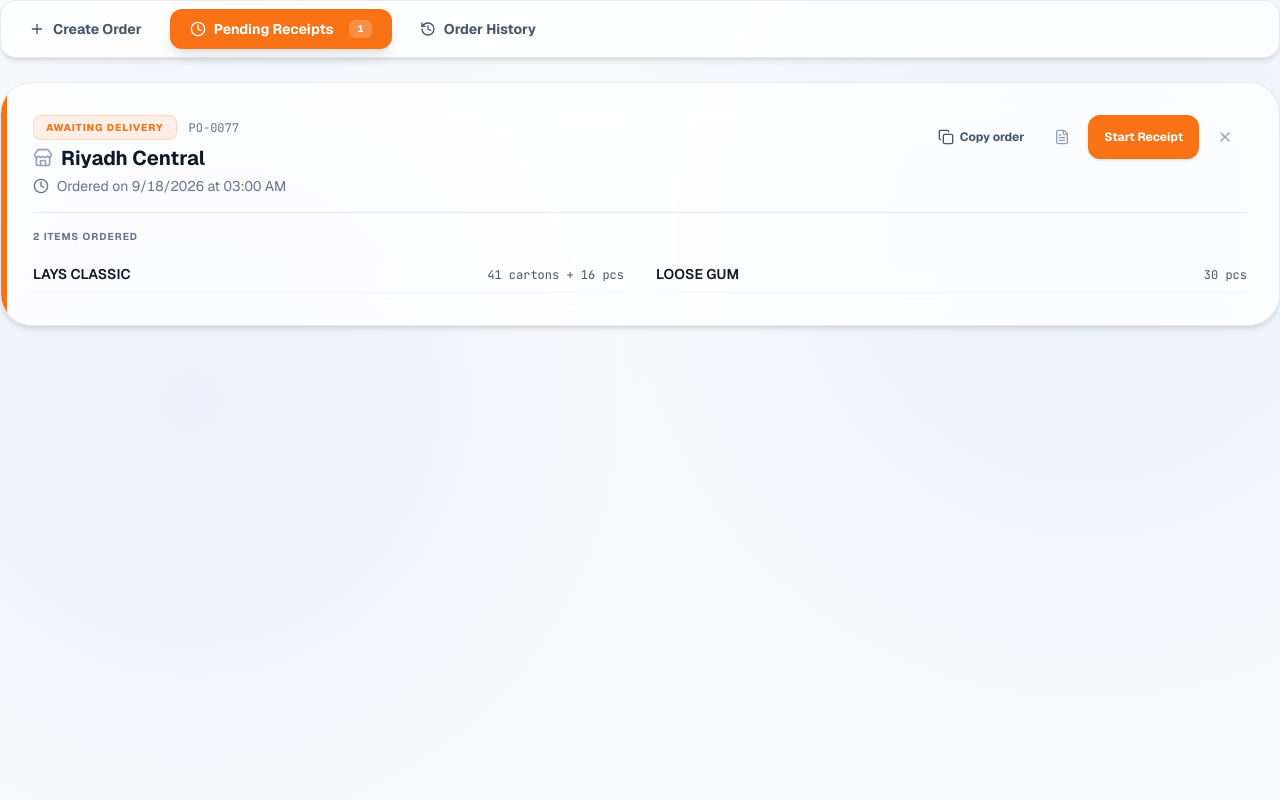
it: OrderManagerUI — receiving a delivery in cartons › opens each line as the order, in the item's usual carton, with a price per carton
The image size is (1280, 800).
Click the button "Start Receipt" at (1144, 137), box [1088, 115, 1199, 159]
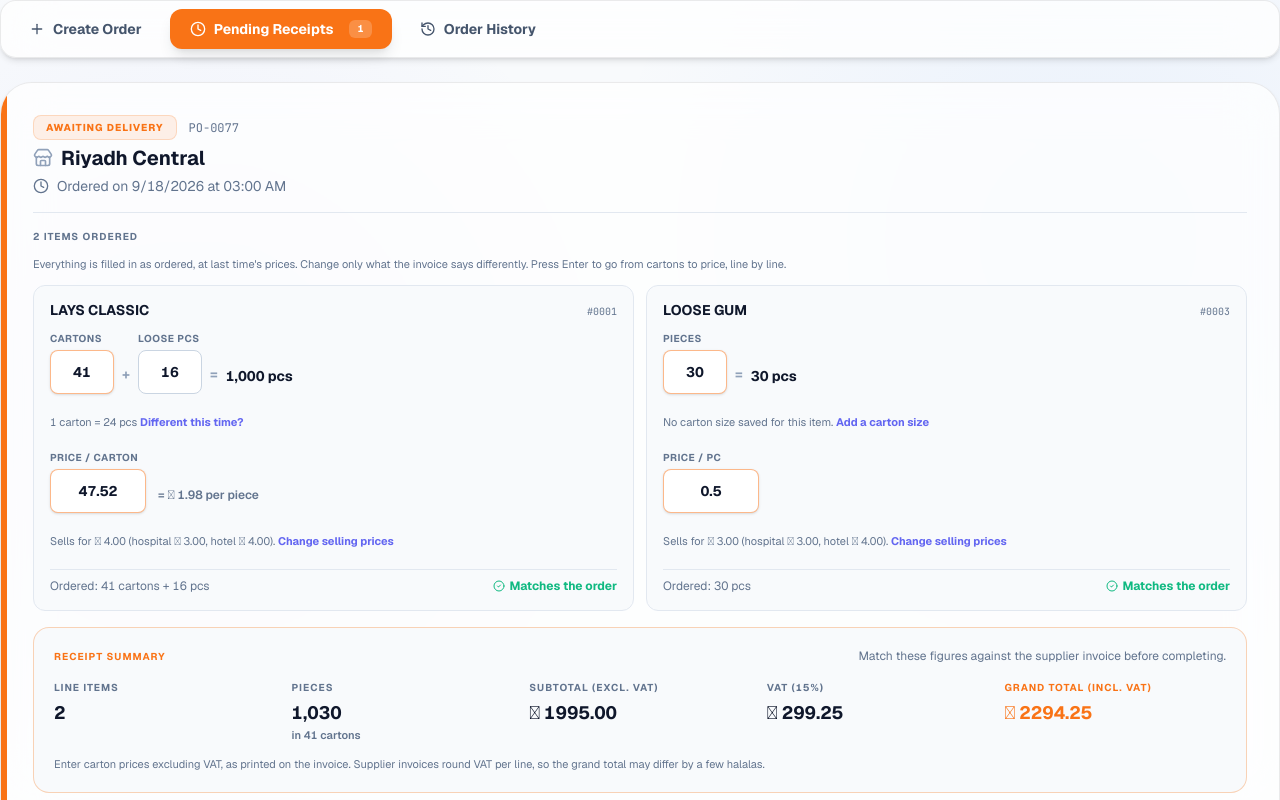
Expected: the field labelled "Cartons" holds "41", [50, 350, 114, 394]
Expected: the field labelled "Loose pcs" holds "16", [138, 350, 202, 394]
Expected: the text with test id "rcv-total-501" reads "1,000 pcs", [226, 366, 293, 394]
